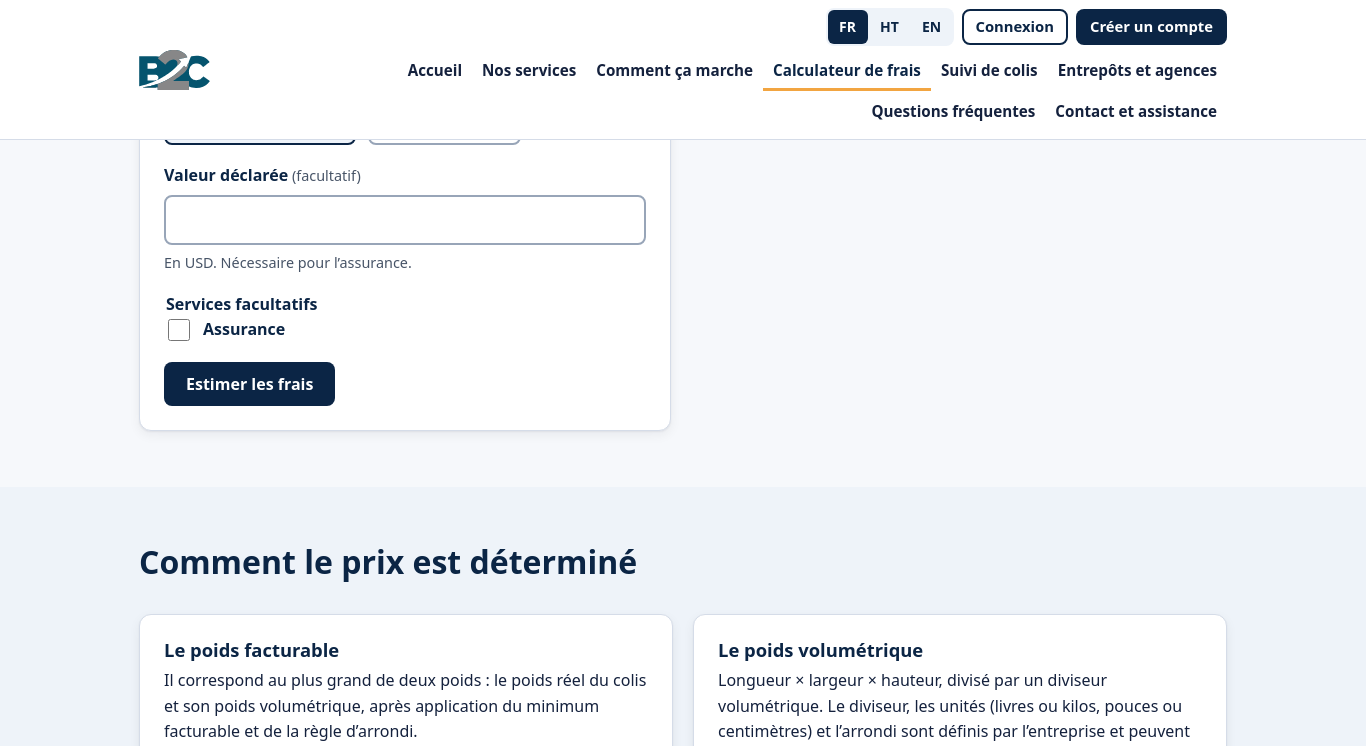
calculateur de frais › valide la saisie en français, sans appeler le serveur
Later steps or results of the test are not shown.
(page scrolled)
Click the button "Estimer les frais" at (250, 384), box 164,362 -> 335,406
(page scrolled)
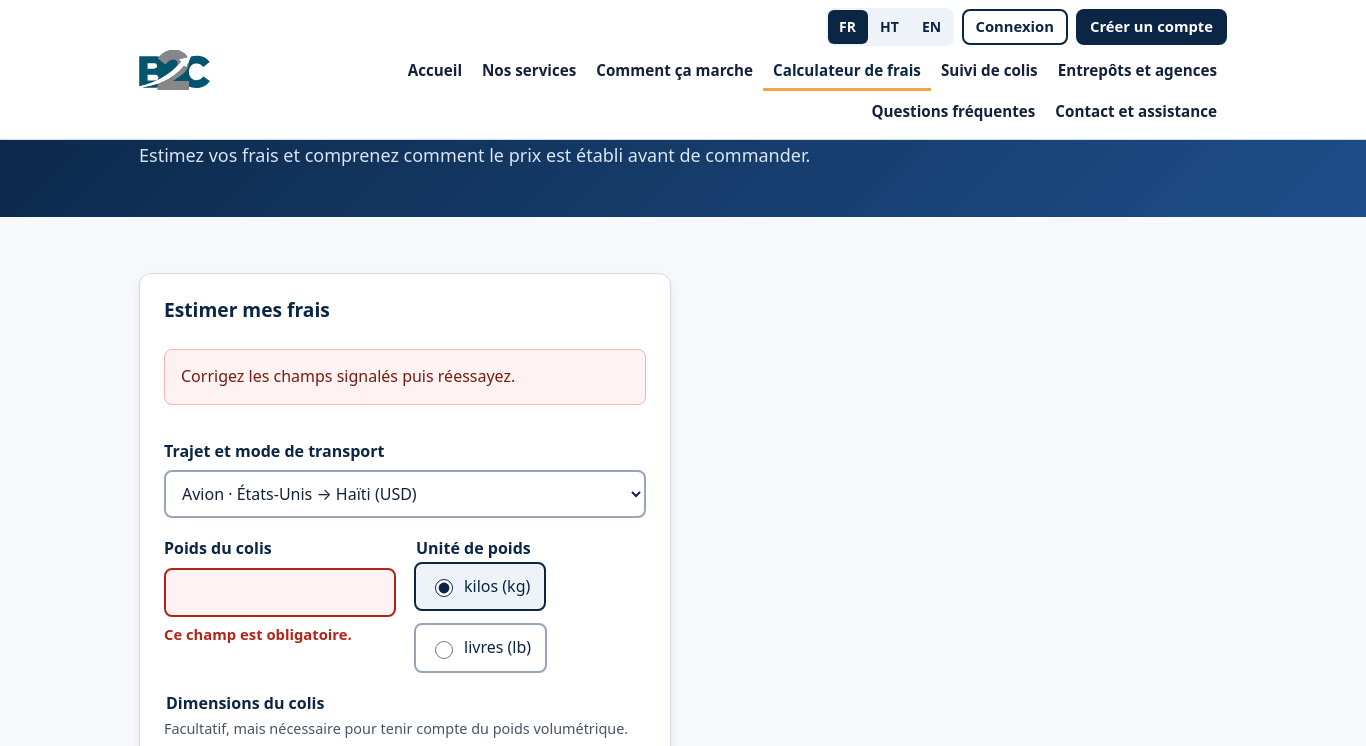
Expected: the text "Ce champ est obligatoire." is shown, 164,624 -> 352,644
Type "abc" into the field labelled "Poids du colis" at (280, 593), box 164,568 -> 396,618
(page scrolled)
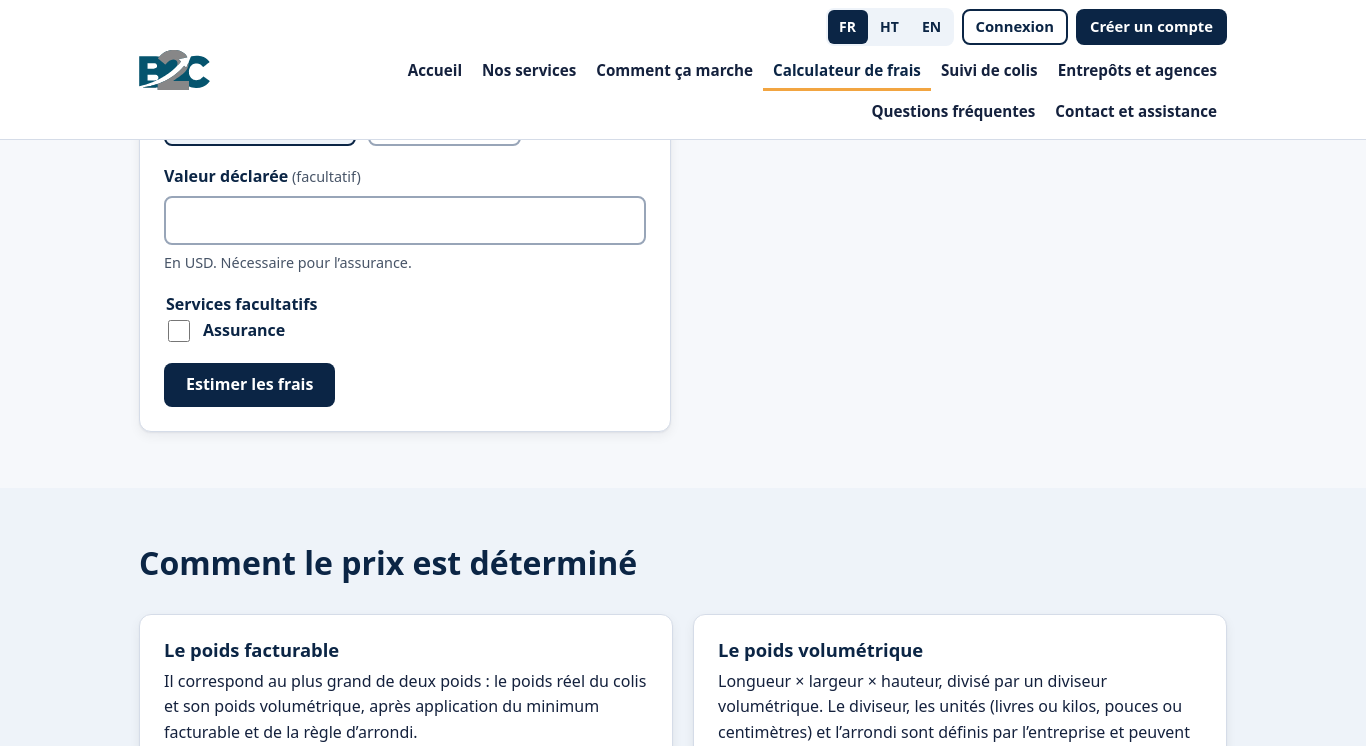
Click the button "Estimer les frais" at (250, 385), box 164,363 -> 335,407
(page scrolled)
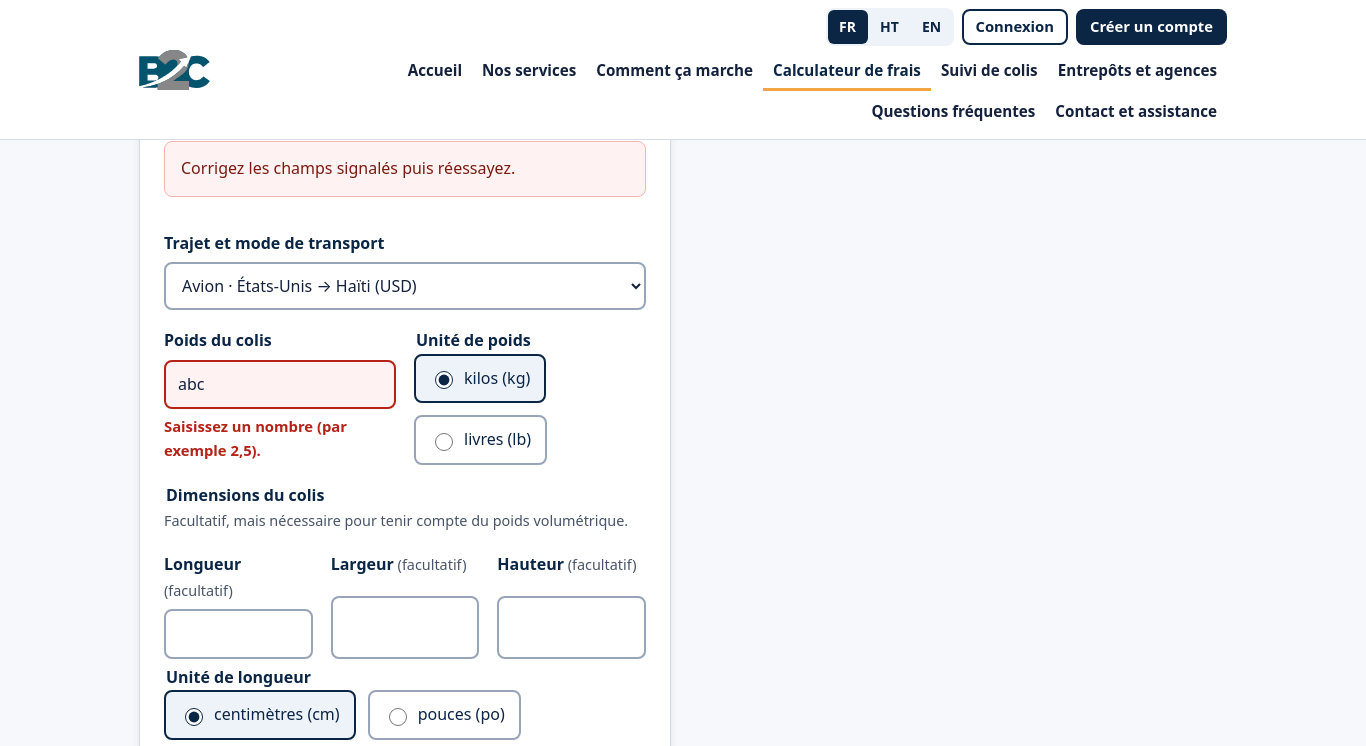
Expected: the text "Saisissez un nombre (par exemple 2,5)." is shown, 164,416 -> 347,460
Replace the text in the field labelled "Poids du colis" with "2,0005" at (280, 385), box 164,360 -> 396,410
(page scrolled)
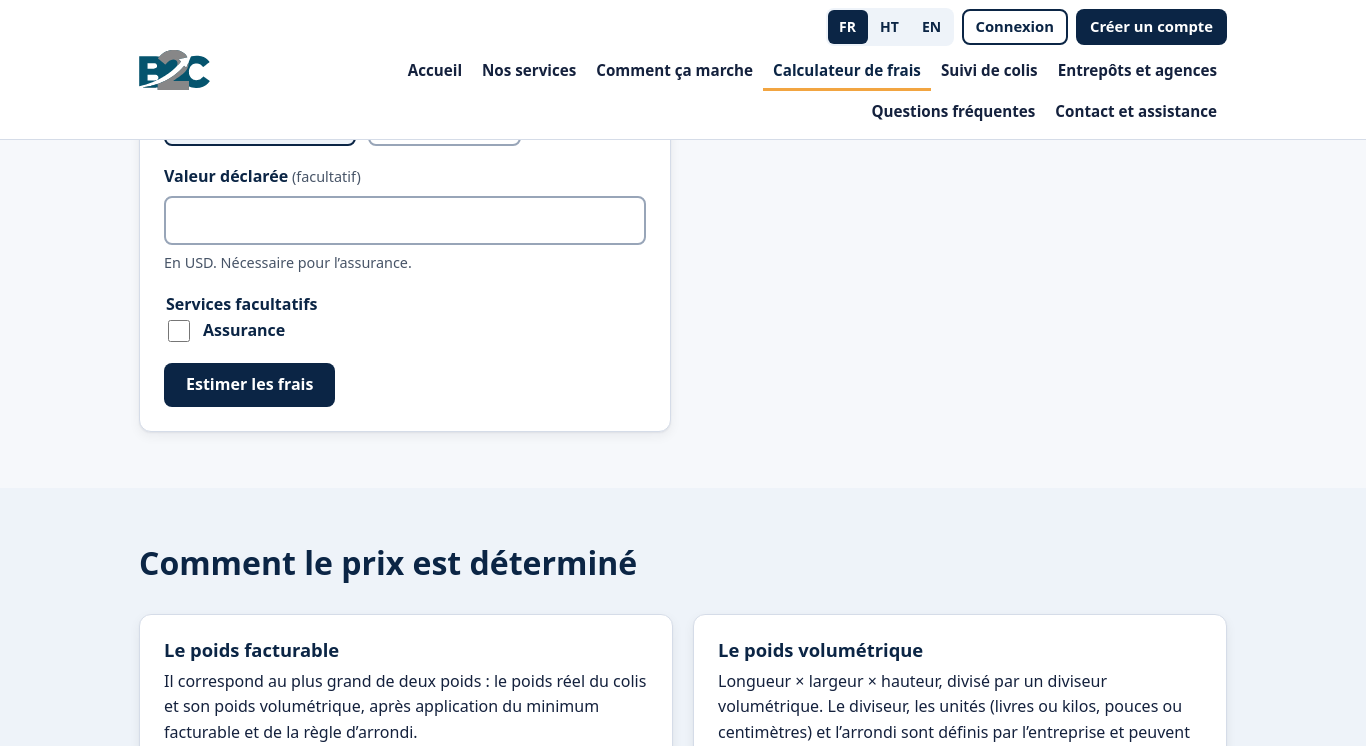
Click the button "Estimer les frais" at (250, 385), box 164,363 -> 335,407
(page scrolled)
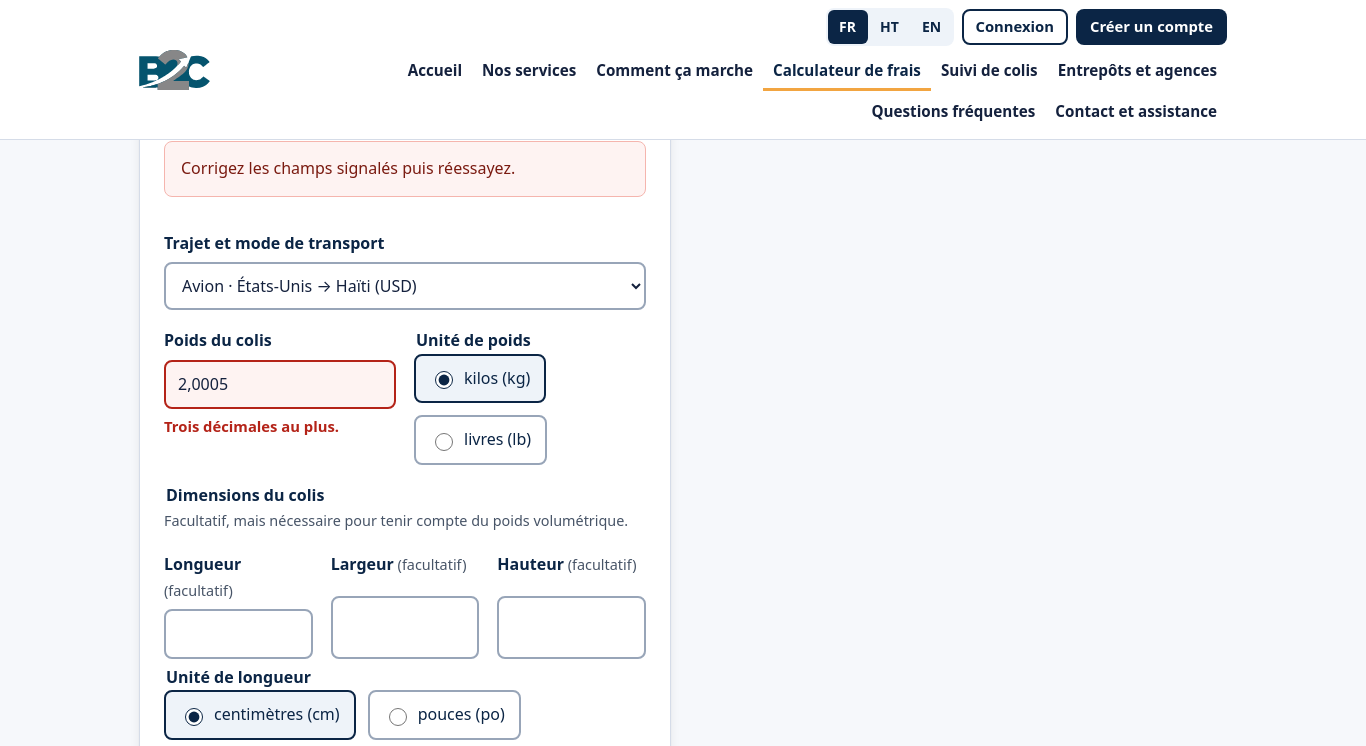
Expected: the text "Trois décimales au plus." is shown, 164,416 -> 339,436
